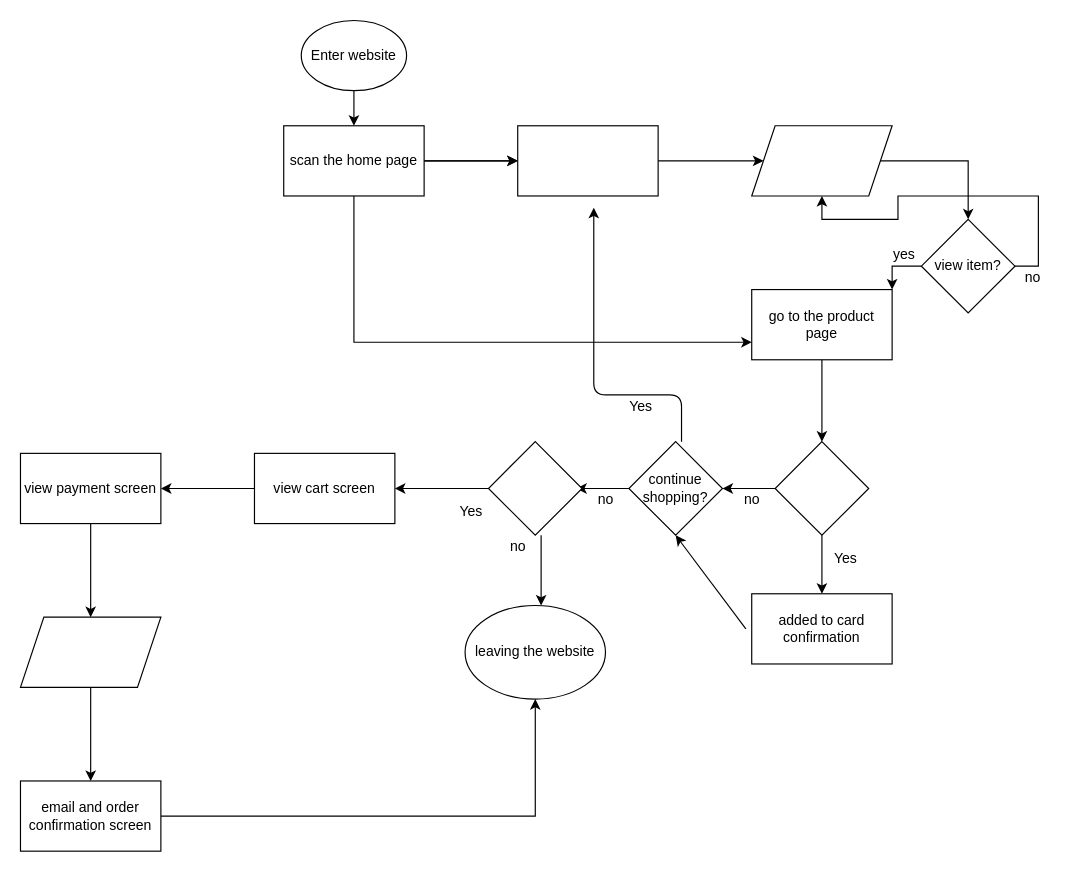
Image size: 1071x872. Some labels were removed from this diagram. The shapes that lost their labels are listed below. From the top down, each one's centre as x and y in pixels, then its label:
At point (587, 160): "use the search bar".
At point (821, 160): "user search input".
At point (534, 488): "checkout?".
At point (821, 488): "add to cart ?".
At point (90, 651): "payment info input".
